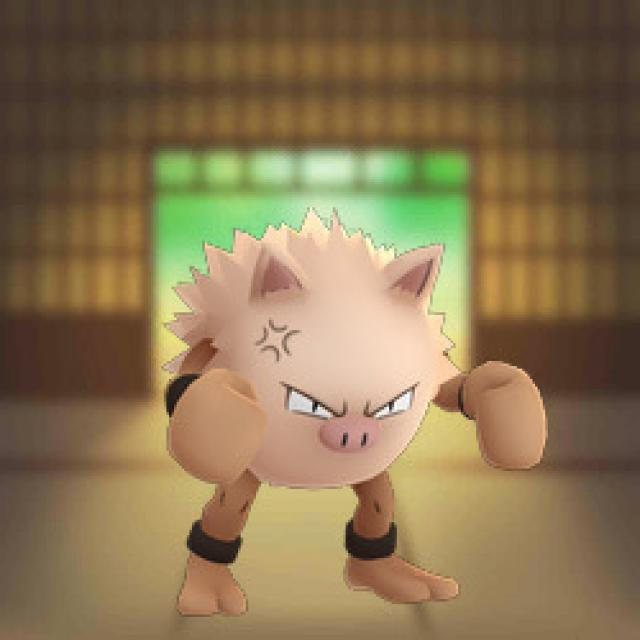Primeape: (163, 218, 504, 618)
